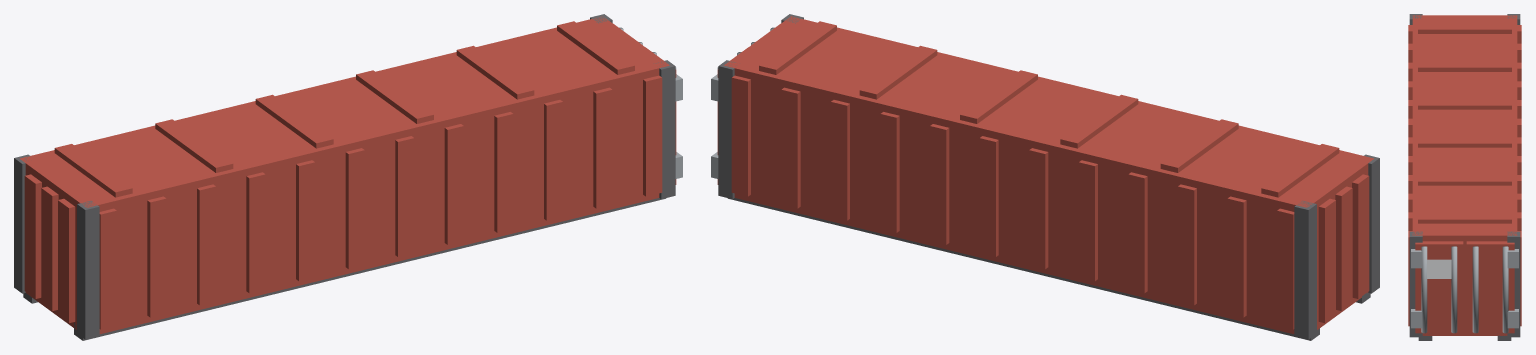
The model's file is container_red.glb.
3 renders of one model, left to right at view 1: azimuth 30°, elevation 25°; view 2: azimuth 150°, elevation 25°; view 3: azimuth 270°, elevation 25°, orthographic. The views are drawn at different scales.
Visible parts, largest first — view 1: Merged_CityAccentRed, Merged_RoofDark; view 2: Merged_CityAccentRed, Merged_RoofDark; view 3: Merged_CityAccentRed, Merged_PropsMetal, Merged_RoofDark, cont_data_plate.
Boxes of the visible parts, bbox=[...] form: Merged_CityAccentRed: bbox=[20, 16, 676, 334]; Merged_RoofDark: bbox=[14, 14, 675, 340]; Merged_CityAccentRed: bbox=[717, 16, 1373, 334]; Merged_RoofDark: bbox=[718, 14, 1379, 340]; Merged_CityAccentRed: bbox=[1408, 15, 1521, 335]; Merged_PropsMetal: bbox=[1411, 246, 1518, 333]; Merged_RoofDark: bbox=[1409, 14, 1520, 340]; cont_data_plate: bbox=[1427, 259, 1451, 278].
Size of the model in its own units: 12.59 by 2.82 by 2.65.
